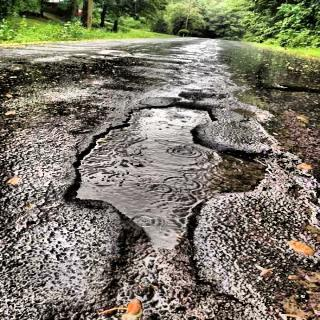pothole: (67, 75, 276, 252)
